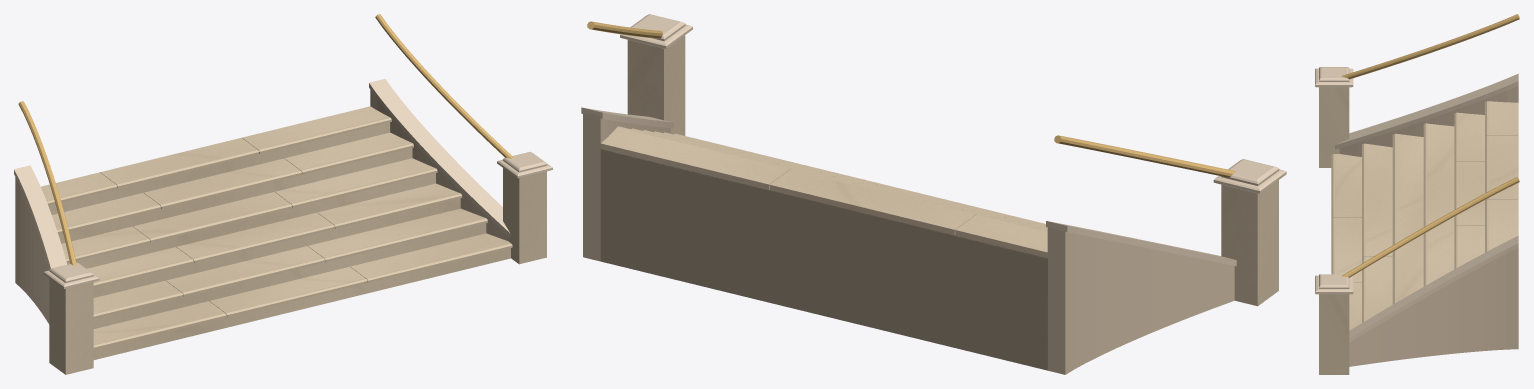
Rendered from xuhui-lunghwa-terminal-curved-stair-foot-lod.glb.
3 views of the same model, side by side, from view 1: azimuth 30°, elevation 25°; view 2: azimuth 150°, elevation 25°; view 3: azimuth 270°, elevation 25° (orthographic). The views are drawn at different scales.
Visible parts, largest first — view 1: 龙华机场旧候机厅弧形楼梯下段; view 2: 龙华机场旧候机厅弧形楼梯下段; view 3: 龙华机场旧候机厅弧形楼梯下段.
Boxes of the visible parts, x1,y1,x2,y2 form: 龙华机场旧候机厅弧形楼梯下段: [14, 14, 552, 374]; 龙华机场旧候机厅弧形楼梯下段: [581, 14, 1286, 374]; 龙华机场旧候机厅弧形楼梯下段: [1315, 14, 1519, 374].
Bounding box in the file's own units: 5.24 × 1.85 × 2.03.
6 materials, 1 textured.
